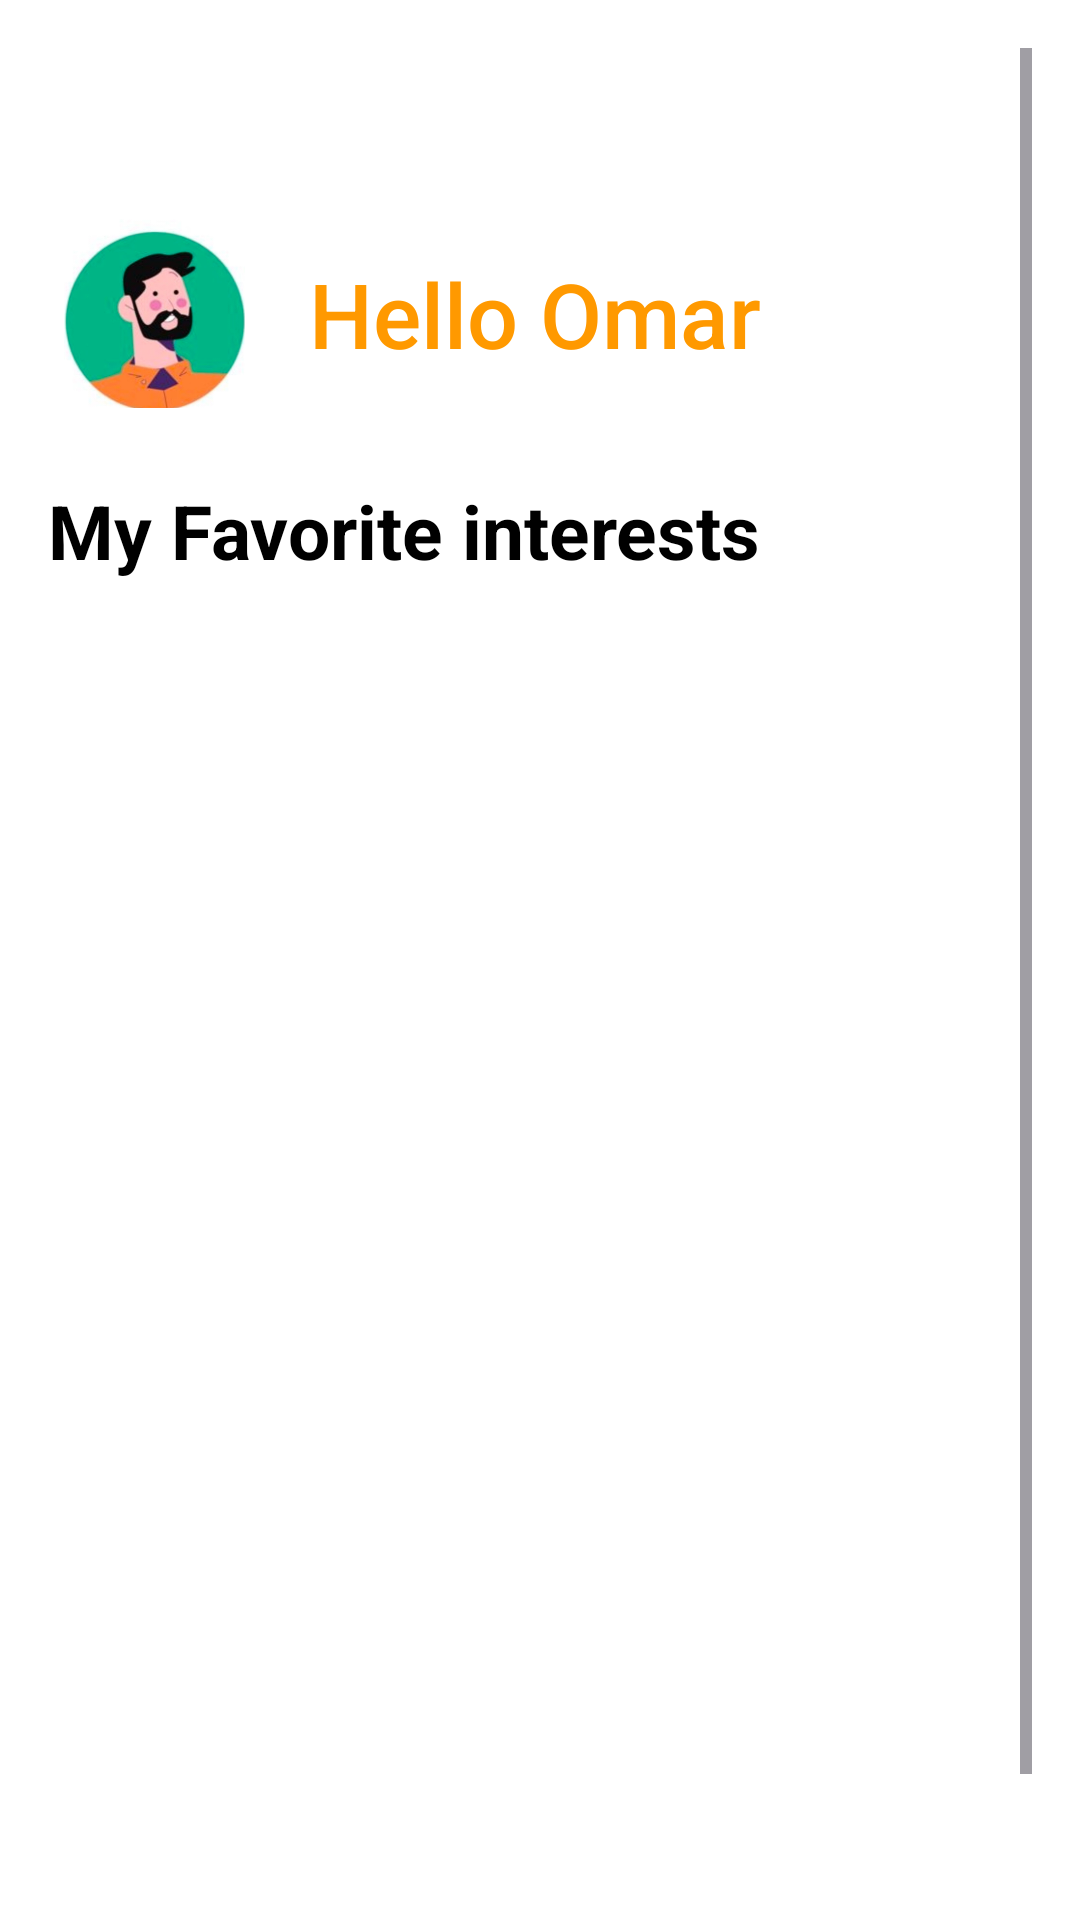

Named icons in this screenshot (1080 × 1920) and their bounding boxes, detection(x1, y1, x2, y2):
Profile Image: detection(64, 231, 245, 408)
